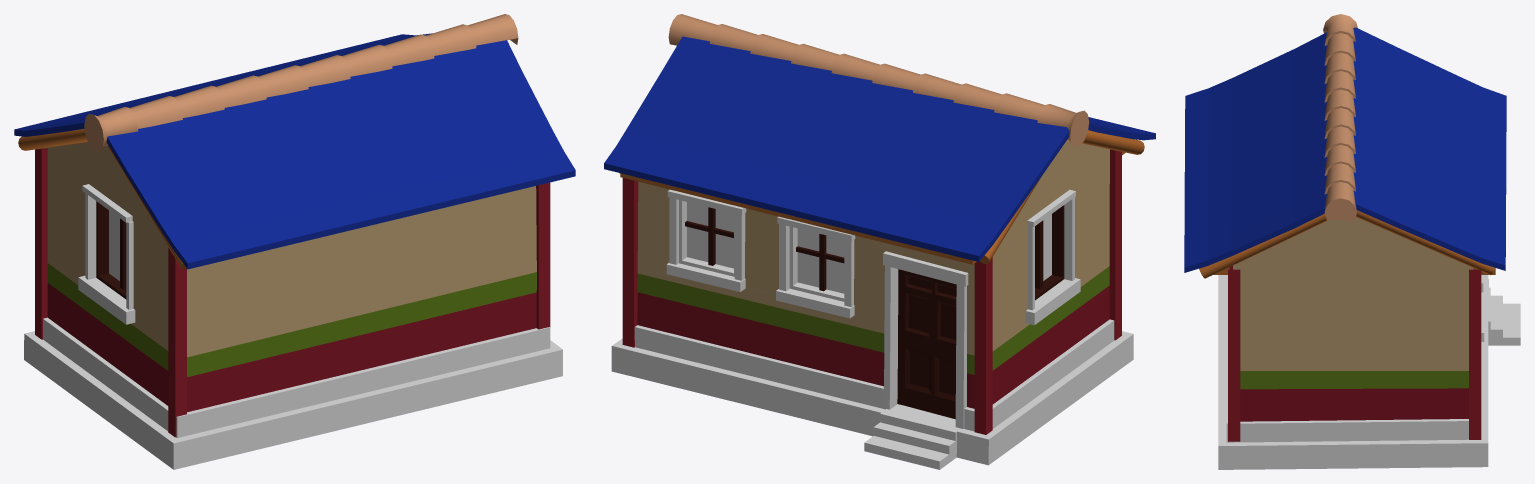
Rendered from icecreamshop.fbx.
The picture shows the model from 3 angles, left to right: view 1: azimuth 30°, elevation 25°; view 2: azimuth 150°, elevation 25°; view 3: azimuth 270°, elevation 25°; orthographic projection. The views are drawn at different scales.
Parts seen in each view (by area): view 1: building_icecream; view 2: building_icecream; view 3: building_icecream.
Boxes of the visible parts, x1=… form: building_icecream: x1=14, y1=14, x2=575, y2=469; building_icecream: x1=604, y1=14, x2=1155, y2=469; building_icecream: x1=1184, y1=14, x2=1520, y2=469.
Size of the model in its own units: 601 by 428 by 467.
